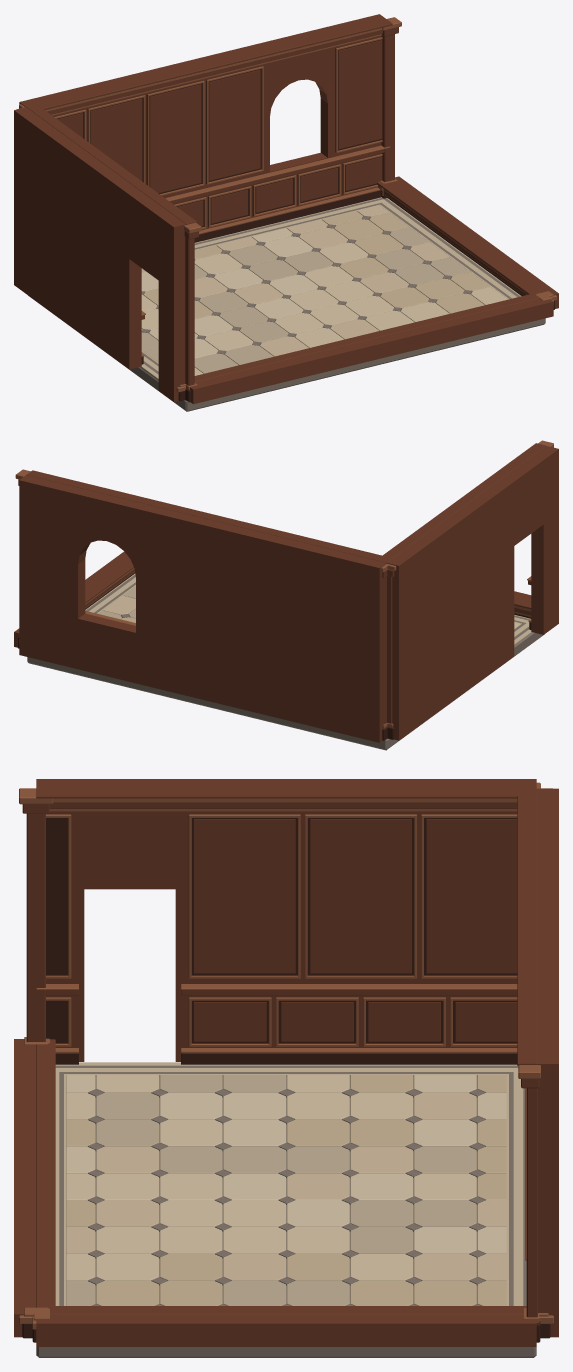
The model's file is dp_architecture.glb.
3 renders of one model, top to bottom at view 1: azimuth 30°, elevation 25°; view 2: azimuth 150°, elevation 25°; view 3: azimuth 270°, elevation 25°, orthographic. The views are drawn at different scales.
Visible parts, largest first — view 1: D_P_Floor, D_P_left_Wall_Solid_00, D_P_rear_Wall_Solid_00, D_P_front_Cutedge_Solid_00, D_P_rear_Wall_UpperPanel_00_0_3_Field, D_P_rear_Wall_UpperPanel_00_0_2_Field, D_P_rear_Wall_UpperPanel_00_1_0_Field, D_P_rear_Wall_UpperPanel_00_0_1_Field, D_P_rear_Wall_Cornice_00_3_0, D_P_Floor_Foundation, D_P_front_Cutedge_Cornice_00_3_0, D_P_right_Cutedge_Solid_00 (+19 smaller); view 2: D_P_rear_Wall_Solid_00, D_P_left_Wall_Solid_00, D_P_Floor_Foundation, D_P_rear_Wall_Cornice_00_3_0, D_P_left_Wall_Cornice_00_3_0, D_P_Floor, Pilaster_Shaft, D_P_right_Cutedge_Solid_00, D_P_right_Cutedge_Cornice_00_3_0, Pilaster_Shaft_003; view 3: D_P_Floor, D_P_left_Wall_Solid_00, D_P_right_Cutedge_Solid_00, D_P_left_Wall_UpperPanel_00_1_0_Field, D_P_left_Wall_UpperPanel_00_1_1_Field, D_P_left_Wall_UpperPanel_00_1_2_Field, D_P_rear_Wall_Solid_00, D_P_front_Cutedge_Solid_00, D_P_Floor_Foundation, D_P_rear_Wall_Cornice_00_3_0, D_P_left_Wall_Cornice_00_3_0, D_P_front_Cutedge_Cornice_00_3_0 (+22 smaller).
Boxes of the visible parts, bbox=[...] form: D_P_Floor: bbox=[140, 197, 521, 379]; D_P_left_Wall_Solid_00: bbox=[14, 107, 186, 401]; D_P_rear_Wall_Solid_00: bbox=[19, 14, 385, 229]; D_P_front_Cutedge_Solid_00: bbox=[190, 298, 553, 404]; D_P_rear_Wall_UpperPanel_00_0_3_Field: bbox=[209, 70, 260, 180]; D_P_rear_Wall_UpperPanel_00_0_2_Field: bbox=[150, 84, 201, 193]; D_P_rear_Wall_UpperPanel_00_1_0_Field: bbox=[338, 40, 382, 149]; D_P_rear_Wall_UpperPanel_00_0_1_Field: bbox=[91, 98, 142, 181]; D_P_rear_Wall_Cornice_00_3_0: bbox=[37, 19, 392, 109]; D_P_Floor_Foundation: bbox=[28, 295, 545, 411]; D_P_front_Cutedge_Cornice_00_3_0: bbox=[194, 294, 538, 382]; D_P_right_Cutedge_Solid_00: bbox=[391, 176, 558, 308]; D_P_rear_Wall_Solid_00: bbox=[19, 475, 386, 742]; D_P_left_Wall_Solid_00: bbox=[386, 446, 558, 740]; D_P_Floor_Foundation: bbox=[27, 632, 544, 750]; D_P_rear_Wall_Cornice_00_3_0: bbox=[26, 470, 386, 562]; D_P_left_Wall_Cornice_00_3_0: bbox=[377, 443, 546, 562]; D_P_Floor: bbox=[85, 573, 532, 645]; Pilaster_Shaft: bbox=[387, 576, 392, 723]; D_P_right_Cutedge_Solid_00: bbox=[14, 551, 129, 647]; D_P_right_Cutedge_Cornice_00_3_0: bbox=[85, 559, 133, 602]; Pilaster_Shaft_003: bbox=[383, 576, 386, 724]; D_P_Floor: bbox=[55, 1062, 526, 1305]; D_P_left_Wall_Solid_00: bbox=[36, 779, 536, 1061]; D_P_right_Cutedge_Solid_00: bbox=[36, 1314, 536, 1346]; D_P_left_Wall_UpperPanel_00_1_0_Field: bbox=[193, 819, 295, 973]; D_P_left_Wall_UpperPanel_00_1_1_Field: bbox=[310, 819, 411, 973]; D_P_left_Wall_UpperPanel_00_1_2_Field: bbox=[426, 819, 517, 973]; D_P_rear_Wall_Solid_00: bbox=[536, 788, 558, 1337]; D_P_front_Cutedge_Solid_00: bbox=[14, 1039, 35, 1337]; D_P_Floor_Foundation: bbox=[36, 1347, 536, 1357]; D_P_rear_Wall_Cornice_00_3_0: bbox=[517, 788, 536, 1065]; D_P_left_Wall_Cornice_00_3_0: bbox=[36, 788, 536, 798]; D_P_front_Cutedge_Cornice_00_3_0: bbox=[36, 1039, 55, 1313].
Bounding box in the file's own units: 8.76 × 4.11 × 6.86.
